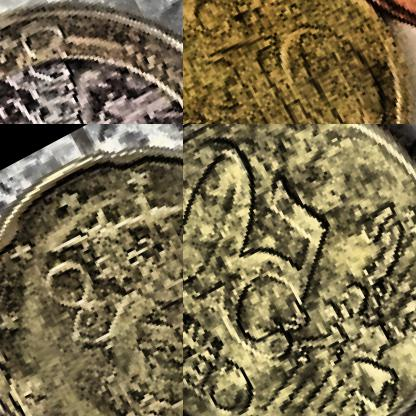coin: (183, 124, 415, 415), (0, 124, 182, 415), (183, 0, 415, 123), (0, 0, 182, 123)
